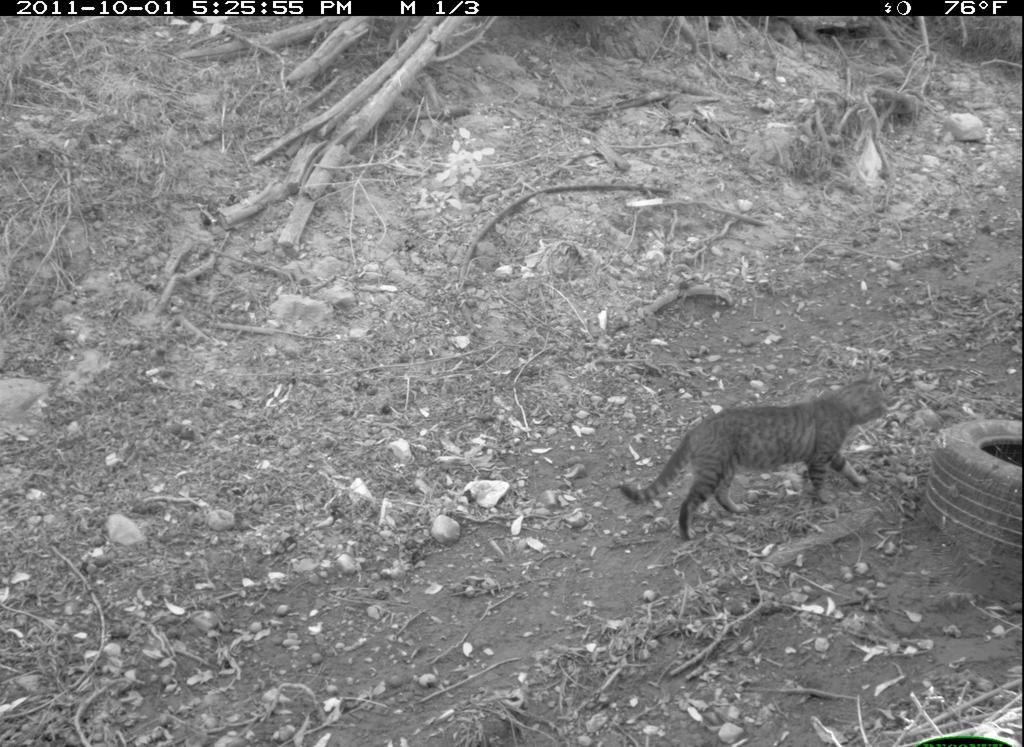cat: (619, 372, 889, 547)
